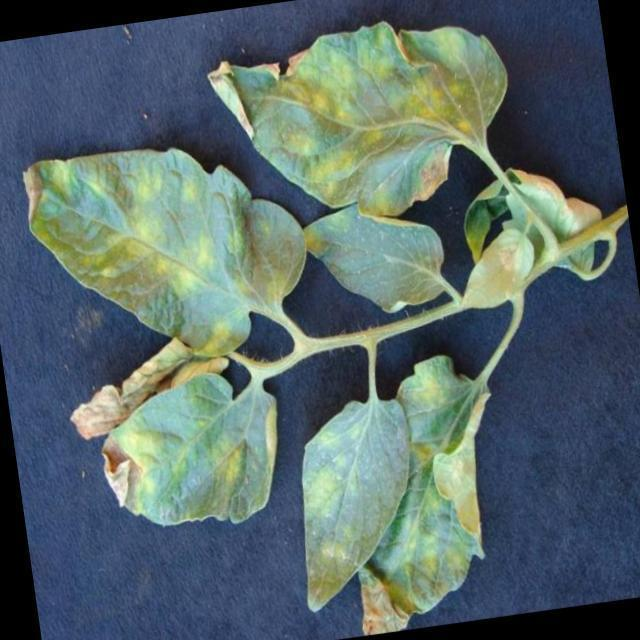Mosaic Virus: (38, 128, 272, 354), (242, 20, 514, 212), (352, 366, 494, 626), (287, 406, 403, 593), (119, 382, 272, 512), (457, 224, 542, 318)
